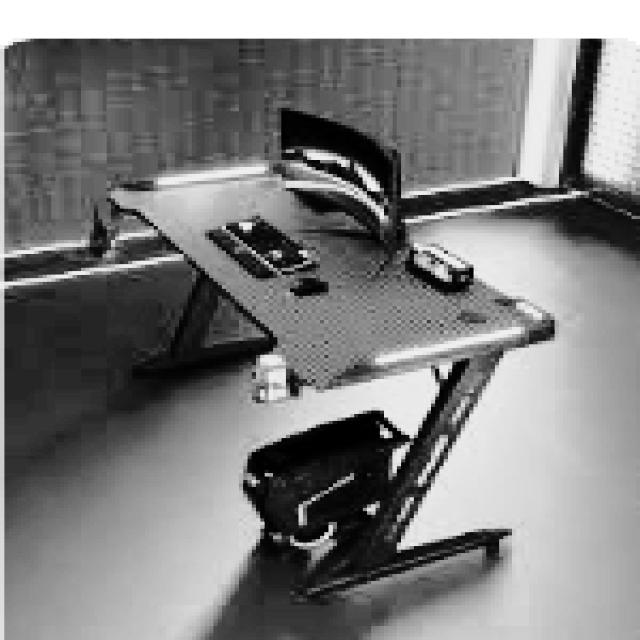table: (102, 160, 555, 595)
